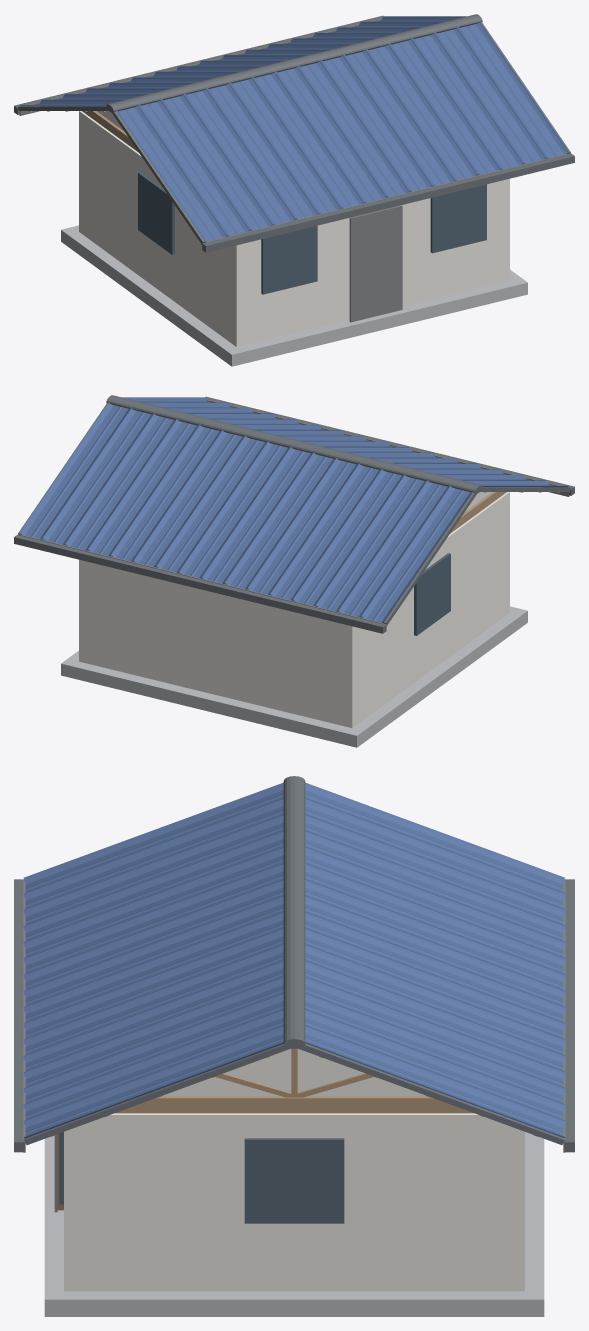
File: Mega_S_Rib_Starter_House_6x6.glb
The picture shows the model from 3 angles, top to bottom: view 1: azimuth 30°, elevation 25°; view 2: azimuth 150°, elevation 25°; view 3: azimuth 270°, elevation 25°; orthographic projection. The views are drawn at different scales.
Visible parts, largest first — view 1: GroundFloor_Walls, Foundation, Door_Frame, Gutter_Front, Ridge_Cap, RoofSheet_01, RoofSheet_13, RoofSheet_15, RoofSheet_04, RoofSheet_11, RoofSheet_02, RoofSheet_03 (+33 smaller); view 2: GroundFloor_Walls, Foundation, Gutter_Back, Ridge_Cap, RoofSheet_17, RoofSheet_31, RoofSheet_27, RoofSheet_29, RoofSheet_18, RoofSheet_20, RoofSheet_21, RoofSheet_22 (+30 smaller); view 3: GroundFloor_Walls, Foundation, Window_Side_Right, Ridge_Cap, Gable_Wall_Right, RoofSheet_16, RoofSheet_32, RoofSheet_24, RoofSheet_28, RoofSheet_08, RoofSheet_11, RoofSheet_12 (+33 smaller).
Part boxes in pixels (x1=…): GroundFloor_Walls: x1=79, y1=111, x2=509, y2=346; Foundation: x1=61, y1=225, x2=527, y2=366; Door_Frame: x1=349, y1=205, x2=402, y2=322; Gutter_Front: x1=202, y1=153, x2=574, y2=252; Ridge_Cap: x1=106, y1=14, x2=482, y2=112; RoofSheet_01: x1=116, y1=105, x2=227, y2=241; RoofSheet_13: x1=389, y1=38, x2=500, y2=174; RoofSheet_15: x1=435, y1=27, x2=546, y2=163; RoofSheet_04: x1=184, y1=88, x2=295, y2=224; RoofSheet_11: x1=344, y1=49, x2=455, y2=185; RoofSheet_02: x1=139, y1=99, x2=250, y2=235; RoofSheet_03: x1=161, y1=94, x2=272, y2=230; GroundFloor_Walls: x1=79, y1=492, x2=509, y2=727; Foundation: x1=61, y1=606, x2=527, y2=747; Gutter_Back: x1=14, y1=534, x2=386, y2=633; Ridge_Cap: x1=106, y1=395, x2=482, y2=493; RoofSheet_17: x1=361, y1=486, x2=472, y2=622; RoofSheet_31: x1=42, y1=408, x2=153, y2=544; RoofSheet_27: x1=133, y1=430, x2=244, y2=566; RoofSheet_29: x1=88, y1=419, x2=199, y2=555; RoofSheet_18: x1=338, y1=480, x2=449, y2=616; RoofSheet_20: x1=293, y1=469, x2=404, y2=605; RoofSheet_21: x1=270, y1=464, x2=381, y2=600; RoofSheet_22: x1=247, y1=458, x2=358, y2=594; GroundFloor_Walls: x1=64, y1=1113, x2=524, y2=1291; Foundation: x1=44, y1=1132, x2=544, y2=1316; Window_Side_Right: x1=244, y1=1138, x2=344, y2=1223; Ridge_Cap: x1=283, y1=776, x2=305, y2=1048; Gable_Wall_Right: x1=163, y1=1049, x2=425, y2=1096; RoofSheet_16: x1=23, y1=1026, x2=283, y2=1138; RoofSheet_32: x1=305, y1=1026, x2=565, y2=1137; RoofSheet_24: x1=305, y1=896, x2=565, y2=1007; RoofSheet_28: x1=305, y1=961, x2=565, y2=1072; RoofSheet_08: x1=23, y1=896, x2=283, y2=1007; RoofSheet_11: x1=23, y1=945, x2=283, y2=1055; RoofSheet_12: x1=23, y1=961, x2=283, y2=1072.
Bounding box in the file's own units: 8.1 × 4.36 × 7.3.
